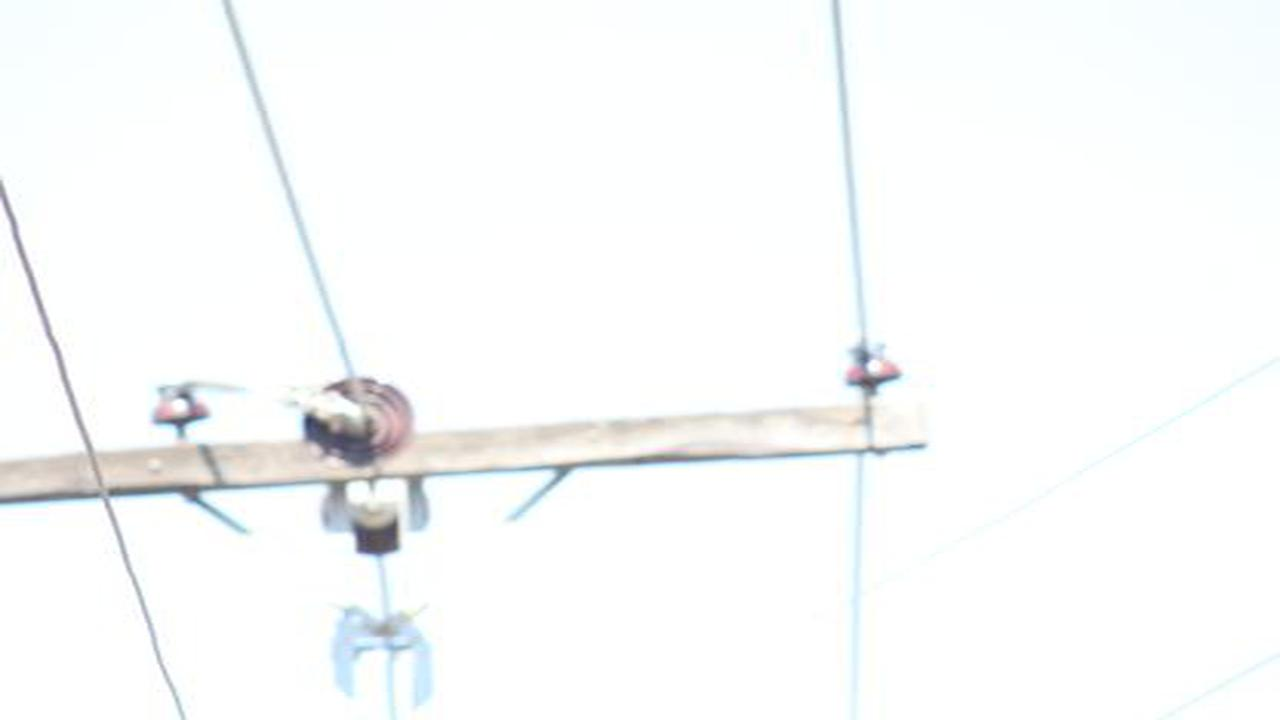insulator_disc: (302, 373, 418, 470), (316, 483, 429, 545)
insulator_pin: (846, 334, 910, 394), (148, 377, 216, 431)
